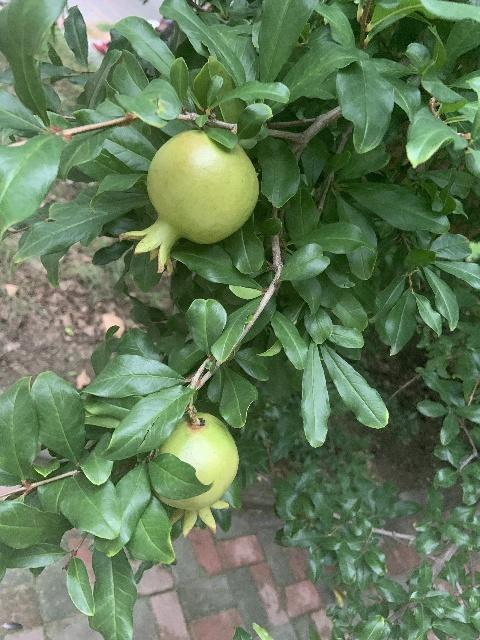mid-growth: (119, 130, 258, 276), (150, 413, 238, 538)
